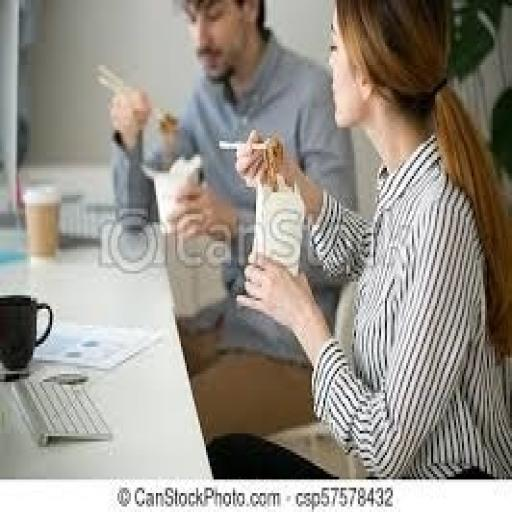eating: (231, 0, 510, 479), (106, 0, 360, 260)
